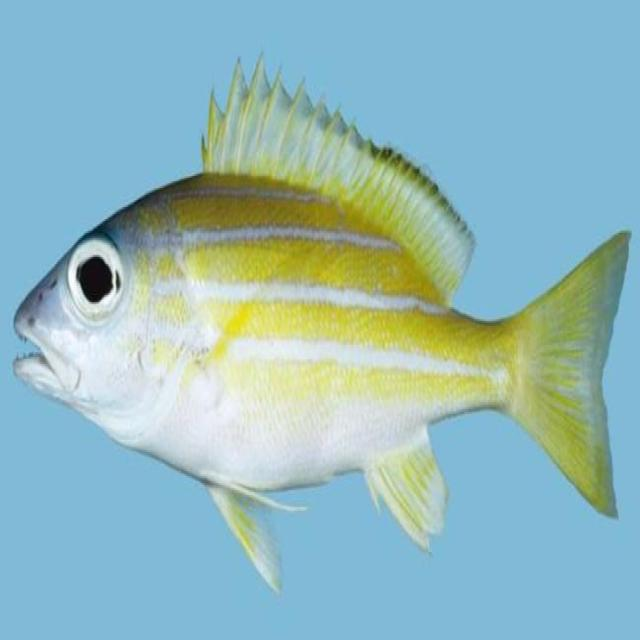ikan: (11, 50, 632, 595)
